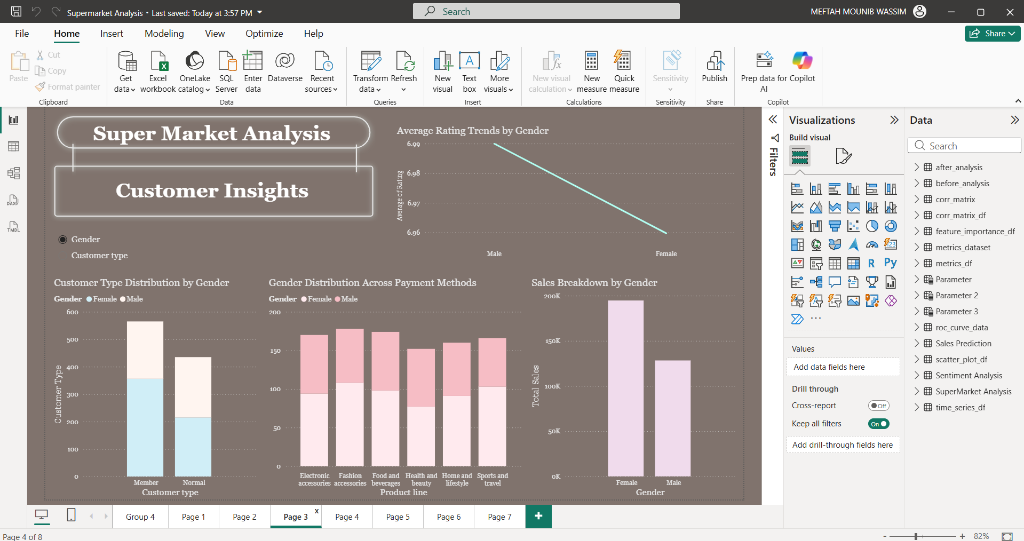

The dashboard page shown, as its layout file describes it:
{"tool":"powerbi","page":{"name":"Page 3","canvas":[1280,720],"ordinal":3},"visuals":[{"type":"shape","box":[7,98.1,602.9,111.4],"z":0,"group":"g2"},{"type":"columnChart","title":"Customer Type Distribution by Gender","fields":{"Y":["CountNonNull(SuperMarket Analysis.Customer type)"],"Category":["SuperMarket Analysis.Customer type"],"Series":["SuperMarket Analysis.Gender"]},"box":[11.4,311.4,381.4,408.6],"z":0},{"type":"textbox","box":[26.5,126.2,557.8,56.4],"z":1000,"group":"g2"},{"type":"clusteredColumnChart","title":"Sales Breakdown by Gender","fields":{"Category":["SuperMarket Analysis.Gender"],"Y":["Sum(SuperMarket Analysis.Sales)"]},"box":[887.1,311.4,382.9,408.6],"z":1000},{"type":"lineChart","title":"Average Rating Trends by Gender","fields":{"Category":["SuperMarket Analysis.Gender"],"Y":["Avg(SuperMarket Analysis.Rating)"]},"box":[640,32.9,630,252.9],"z":2000},{"type":"slicer","fields":{"Values":["Parameter.Parameter"]},"box":[11.4,224.3,161.4,71.4],"z":3000},{"type":"columnChart","title":"Gender Distribution Across Payment Methods","fields":{"Series":["SuperMarket Analysis.Gender"],"Category":["SuperMarket Analysis.Branch","SuperMarket Analysis.City","SuperMarket Analysis.Quantity","SuperMarket Analysis.Payment","SuperMarket Analysis.Rating","SuperMarket Analysis.Product line"],"Y":["CountNonNull(SuperMarket Analysis.Gender)"]},"box":[404.3,311.4,472.9,408.6],"z":4000},{"type":"group","id":"g1","title":"Group 3","box":[7,8.1,602.9,201.4],"z":5000},{"type":"shape","box":[11.3,8.1,592.9,77.1],"z":7000,"group":"g1"},{"type":"textbox","box":[48.4,21,512.9,64.3],"z":8000,"group":"g1"},{"type":"group","id":"g2","title":"Group 1","box":[7,98.1,602.9,111.4],"z":9000,"group":"g1"},{"type":"shape","box":[41.3,59.5,14.3,67.1],"z":10000,"group":"g1"},{"type":"shape","box":[561.3,61,15.7,67.1],"z":11000,"group":"g1"}]}

Visuals, with their boxes on the page's 1280x720 design canvas (x1, y1, x2, y2). These are canvas units, not pixel positions in the 1024x541 screenshot, which may show the page scaled, cropped or inside an application window:
shape: 7, 98, 610, 210
"Customer Type Distribution by Gender" columnChart: 11, 311, 393, 720
textbox: 26, 126, 584, 183
"Sales Breakdown by Gender" clusteredColumnChart: 887, 311, 1270, 720
"Average Rating Trends by Gender" lineChart: 640, 33, 1270, 286
slicer - Parameter.Parameter: 11, 224, 173, 296
"Gender Distribution Across Payment Methods" columnChart: 404, 311, 877, 720
"Group 3" group: 7, 8, 610, 210
shape: 11, 8, 604, 85
textbox: 48, 21, 561, 85
"Group 1" group: 7, 98, 610, 210
shape: 41, 60, 56, 127
shape: 561, 61, 577, 128
